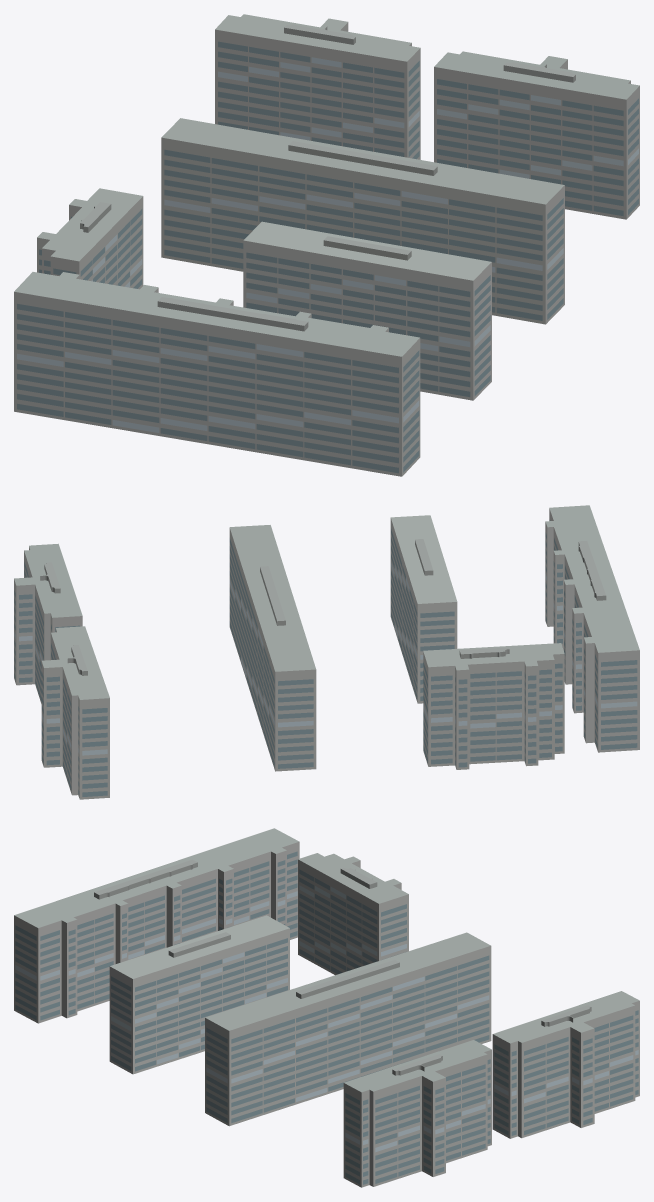
The model's file is apt-a15089510.glb.
3 renders of one model, top to bottom at view 1: azimuth 30°, elevation 25°; view 2: azimuth 150°, elevation 25°; view 3: azimuth 270°, elevation 25°, orthographic. The views are drawn at different scales.
Visible parts, largest first — view 1: apt-a15089510; view 2: apt-a15089510; view 3: apt-a15089510.
Boxes of the visible parts, box(x1,y1,x2,y2) form: apt-a15089510: box(14, 14, 639, 476); apt-a15089510: box(14, 505, 639, 799); apt-a15089510: box(14, 828, 639, 1187).
Bounding box in the file's own units: 204 × 36 × 204.
